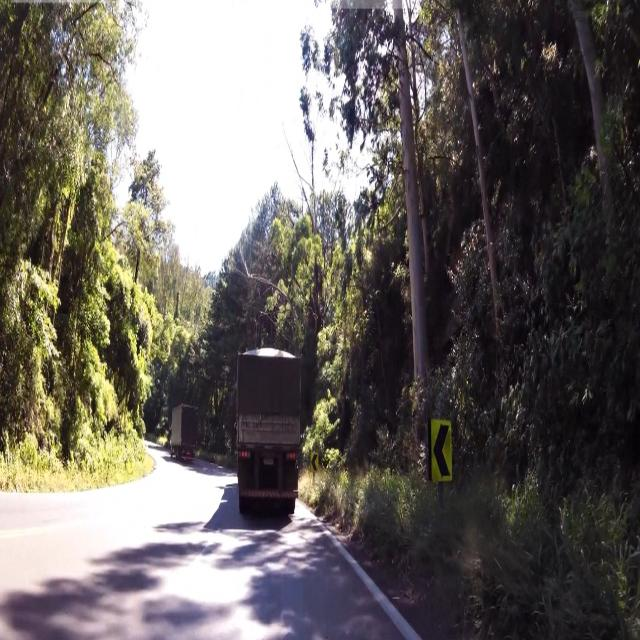E-5: (432, 419, 454, 482)
